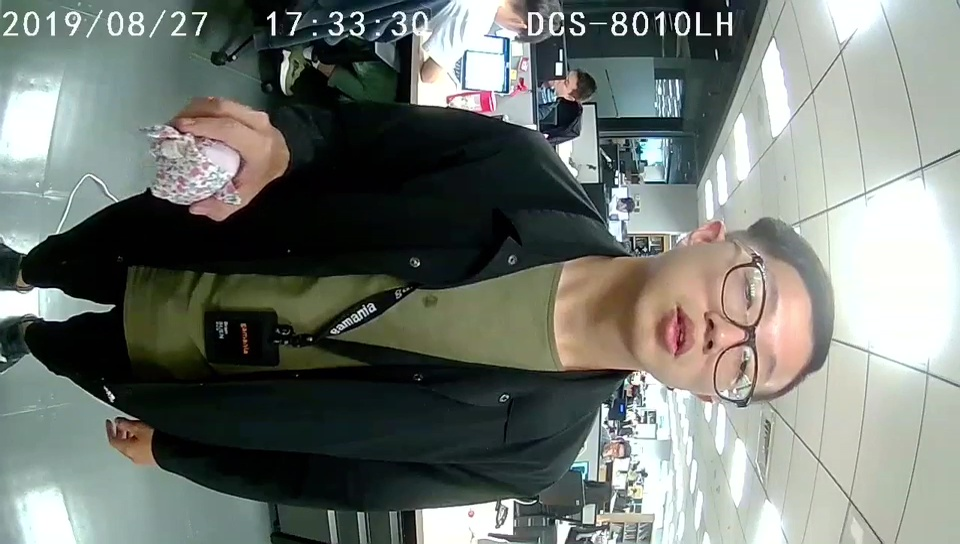pig: (149, 125, 245, 209)
